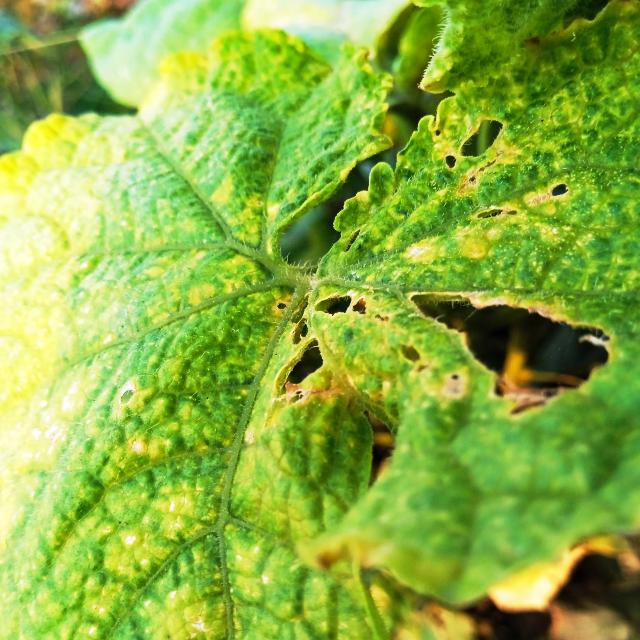Anthracnose: (404, 283, 616, 419), (261, 282, 371, 407), (442, 113, 508, 170), (548, 171, 572, 204)
